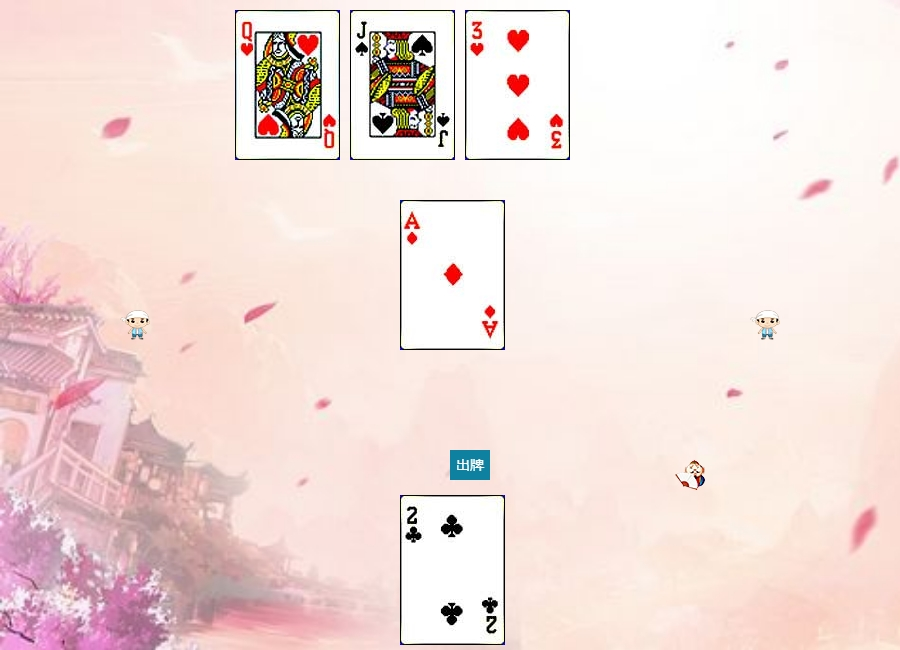11~4: (350, 10, 455, 160)
12~3: (235, 10, 340, 160)
14~1: (400, 200, 505, 350)
15~2: (400, 495, 505, 645)
3~3: (465, 10, 570, 160)
